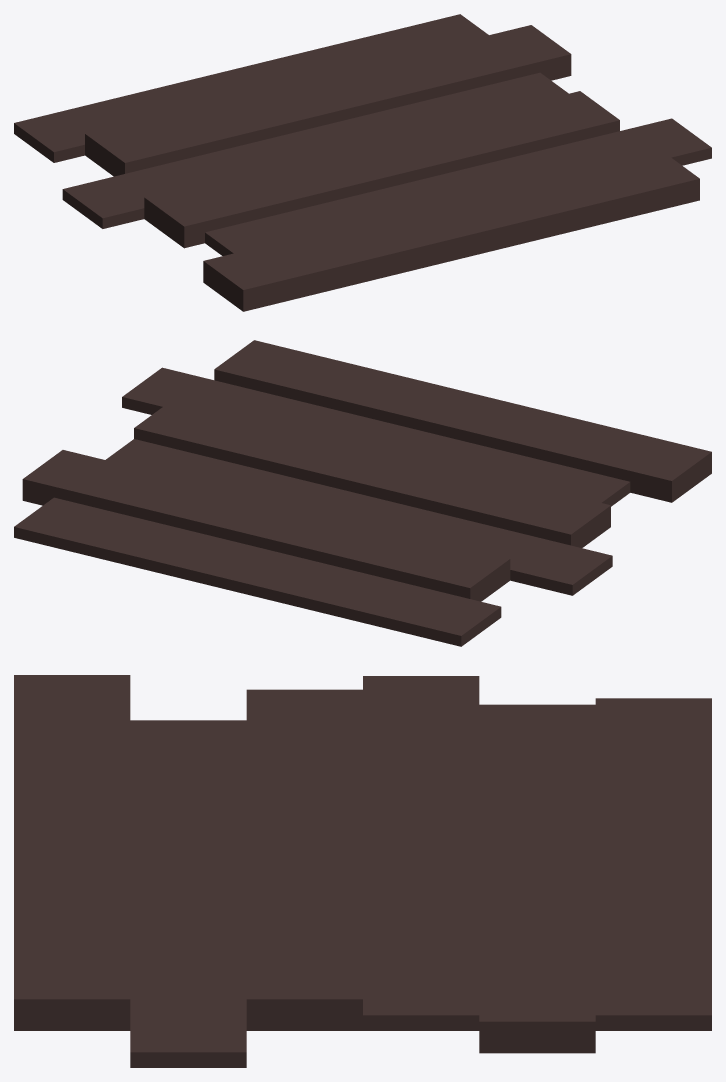
Rendered from roof.fbx.
3 renders of one model, top to bottom at view 1: azimuth 30°, elevation 25°; view 2: azimuth 150°, elevation 25°; view 3: azimuth 270°, elevation 25°, orthographic. The views are drawn at different scales.
Visible parts, largest first — view 1: Roof; view 2: Roof; view 3: Roof.
Part boxes in pixels (x1,y1,x2,y2): Roof: [14, 14, 711, 311]; Roof: [14, 340, 711, 646]; Roof: [14, 675, 711, 1067].
Bounding box in the file's own units: 510 × 20 × 400.
